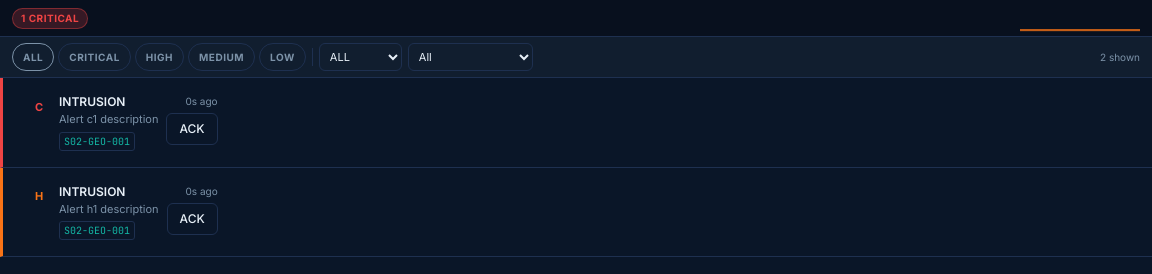
AlertPanel › clicking CRITICAL filter shows only CRITICAL alerts
The width and height of the screenshot is (1152, 274).
Note: Switch to CRITICAL filter
Click the button "CRITICAL" at (95, 57), box [58,43,131,71]
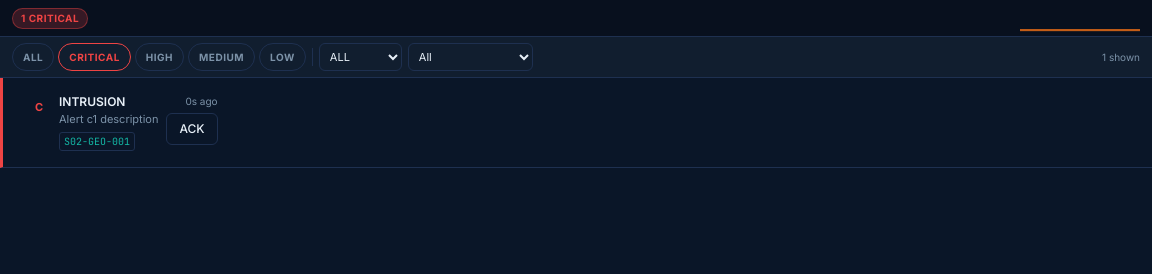
Expected: the text "1 shown" is shown, [1102,50,1140,64]
